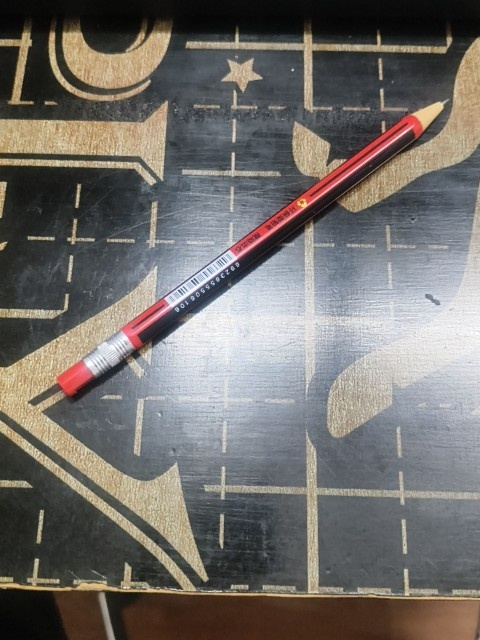pen: (27, 97, 448, 409)
